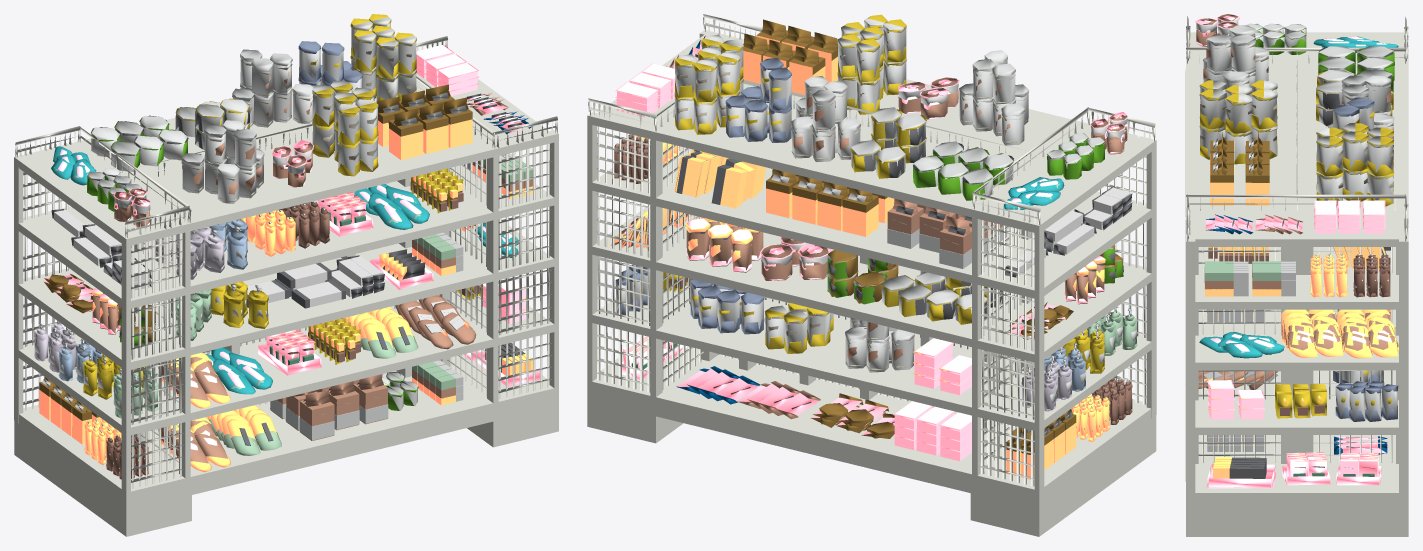
File: DecimatedShelf.fbx
The picture shows the model from 3 angles, left to right: view 1: azimuth 30°, elevation 25°; view 2: azimuth 150°, elevation 25°; view 3: azimuth 270°, elevation 25°; orthographic projection. The views are drawn at different scales.
Visible parts, largest first — view 1: AisleShelfMesh; view 2: AisleShelfMesh; view 3: AisleShelfMesh.
Part boxes in pixels (bbox=[...]): AisleShelfMesh: bbox=[14, 14, 558, 536]; AisleShelfMesh: bbox=[587, 14, 1156, 536]; AisleShelfMesh: bbox=[1185, 14, 1408, 536].
Size of the model in its own units: 321 by 256 by 145.
